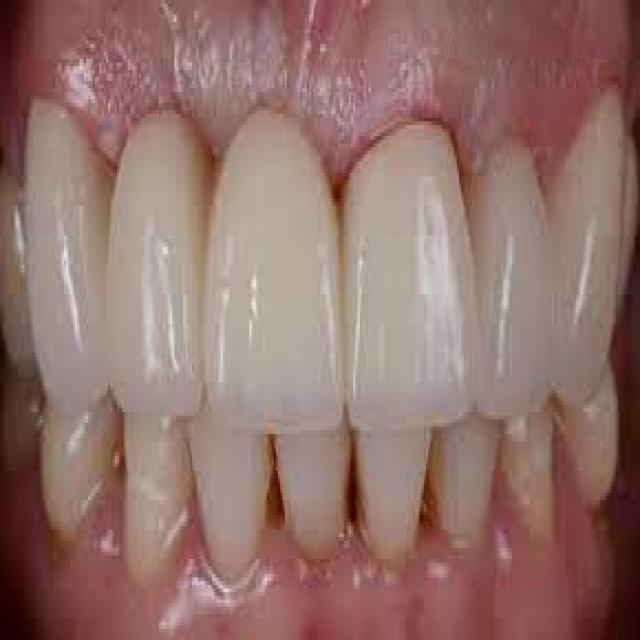tooth: (201, 95, 342, 438), (347, 99, 472, 423), (110, 81, 203, 412), (24, 78, 117, 408), (462, 136, 558, 416), (540, 85, 626, 386), (33, 397, 117, 548), (120, 408, 186, 596), (188, 423, 272, 566), (276, 412, 355, 552), (357, 427, 426, 562), (433, 423, 501, 544), (556, 397, 618, 508), (503, 412, 556, 530), (2, 151, 22, 401), (2, 382, 44, 493), (618, 147, 636, 305)
